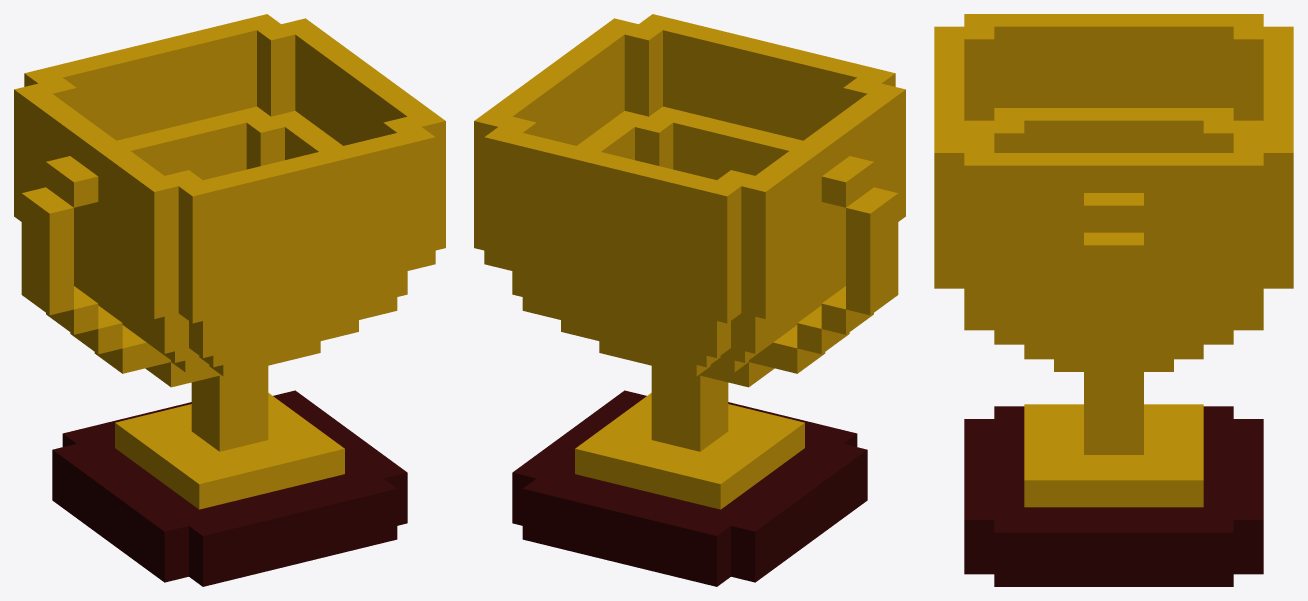
The model's file is Trophy-1.obj.
3 views of the same model, side by side, from view 1: azimuth 30°, elevation 25°; view 2: azimuth 150°, elevation 25°; view 3: azimuth 270°, elevation 25° (orthographic). The views are drawn at different scales.
Visible parts, largest first — view 1: Trophy-1; view 2: Trophy-1; view 3: Trophy-1.
Boxes of the visible parts, x1,y1,x2,y2 form: Trophy-1: (14, 14, 445, 586); Trophy-1: (474, 14, 905, 586); Trophy-1: (934, 14, 1293, 586).
Bounding box in the file's own units: 16 × 16 × 12.
1 material, 1 textured.
